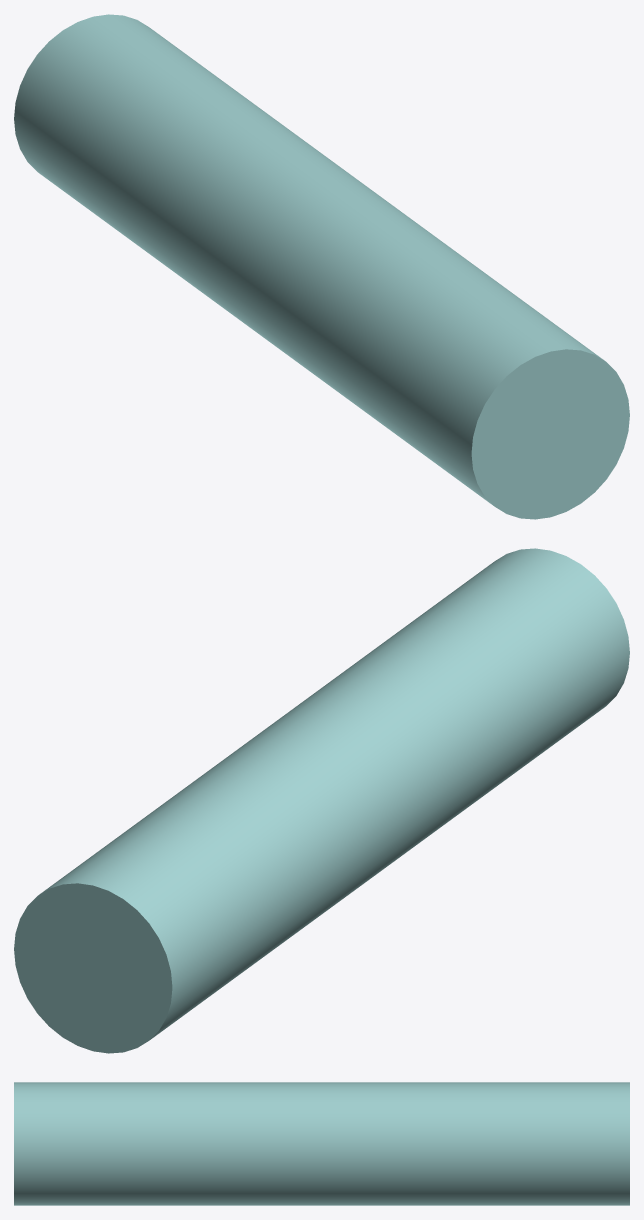
The model's file is TumbleSat0.obj.
3 renders of one model, top to bottom at view 1: azimuth 30°, elevation 25°; view 2: azimuth 150°, elevation 25°; view 3: azimuth 270°, elevation 25°, orthographic. The views are drawn at different scales.
Visible parts, largest first — view 1: cylinder1; view 2: cylinder1; view 3: cylinder1.
Boxes of the visible parts, x1,y1,x2,y2 form: cylinder1: (14,14,629,519); cylinder1: (14,548,629,1053); cylinder1: (14,1082,629,1205).
Size of the model in its own units: 1 by 1 by 5.
